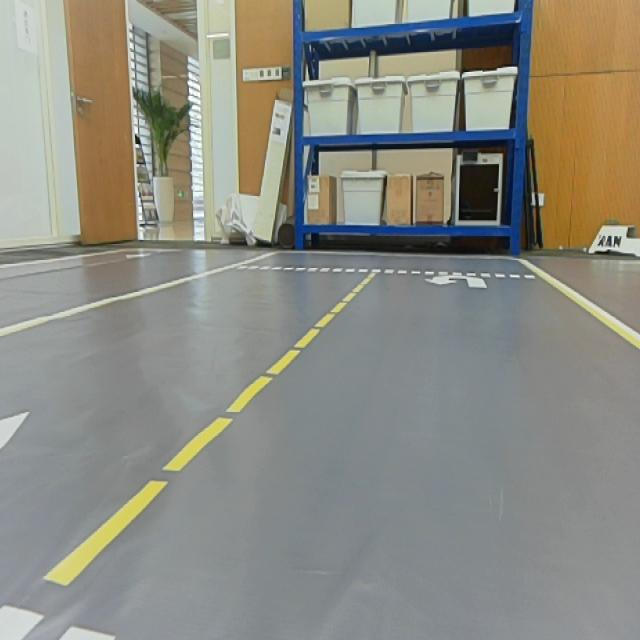left_lane: (0, 270, 381, 637)
right_lane: (0, 250, 270, 342), (527, 258, 640, 350)
